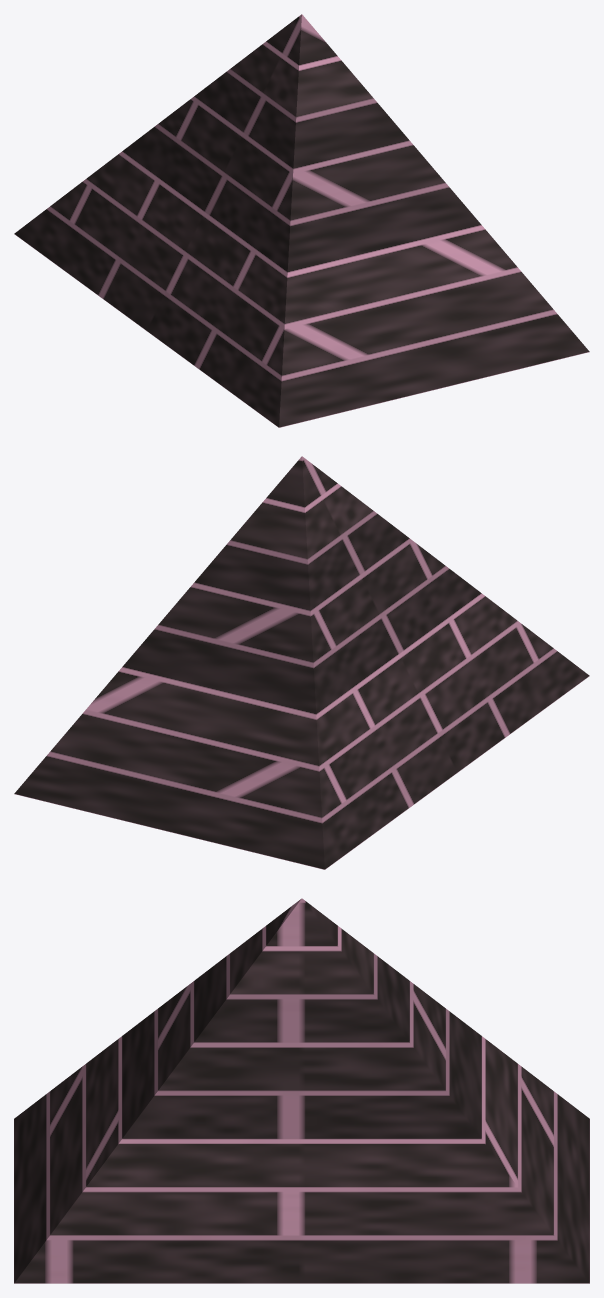
3 views of the same model, one above another, from view 1: azimuth 30°, elevation 25°; view 2: azimuth 150°, elevation 25°; view 3: azimuth 270°, elevation 25° (orthographic). The views are drawn at different scales.
Parts seen in each view (by area): view 1: geometry_0; view 2: geometry_0; view 3: geometry_0.
Boxes of the visible parts, box(x1,y1,x2,y2) form: geometry_0: box(14, 14, 589, 427); geometry_0: box(14, 456, 589, 869); geometry_0: box(14, 898, 589, 1283).
Size of the model in its own units: 2.23 by 1.91 by 3.29.
Materials: 1 (1 with a texture image).
